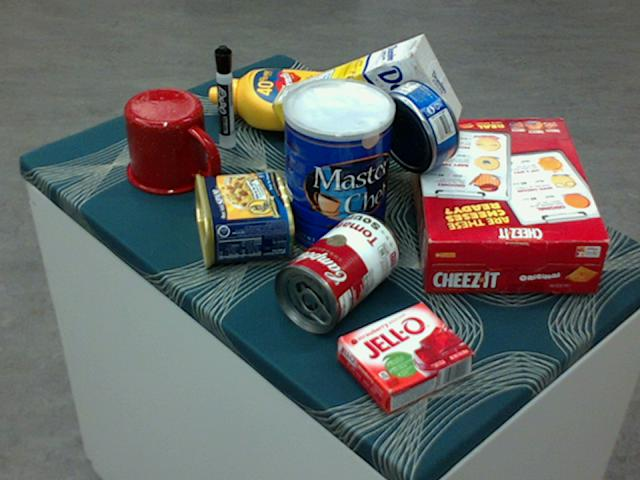cracker_box: (408, 117, 607, 292)
gelatin_box: (337, 301, 473, 412)
large_marker: (212, 44, 236, 148)
master_chef_can: (281, 79, 394, 259)
mug: (124, 87, 217, 194)
mustard_bottle: (207, 67, 374, 135)
potted_meat_can: (191, 170, 293, 268)
sugar_box: (268, 35, 460, 171)
tomato_soup_can: (271, 212, 399, 331)
tuna_fish_can: (375, 77, 460, 171)
